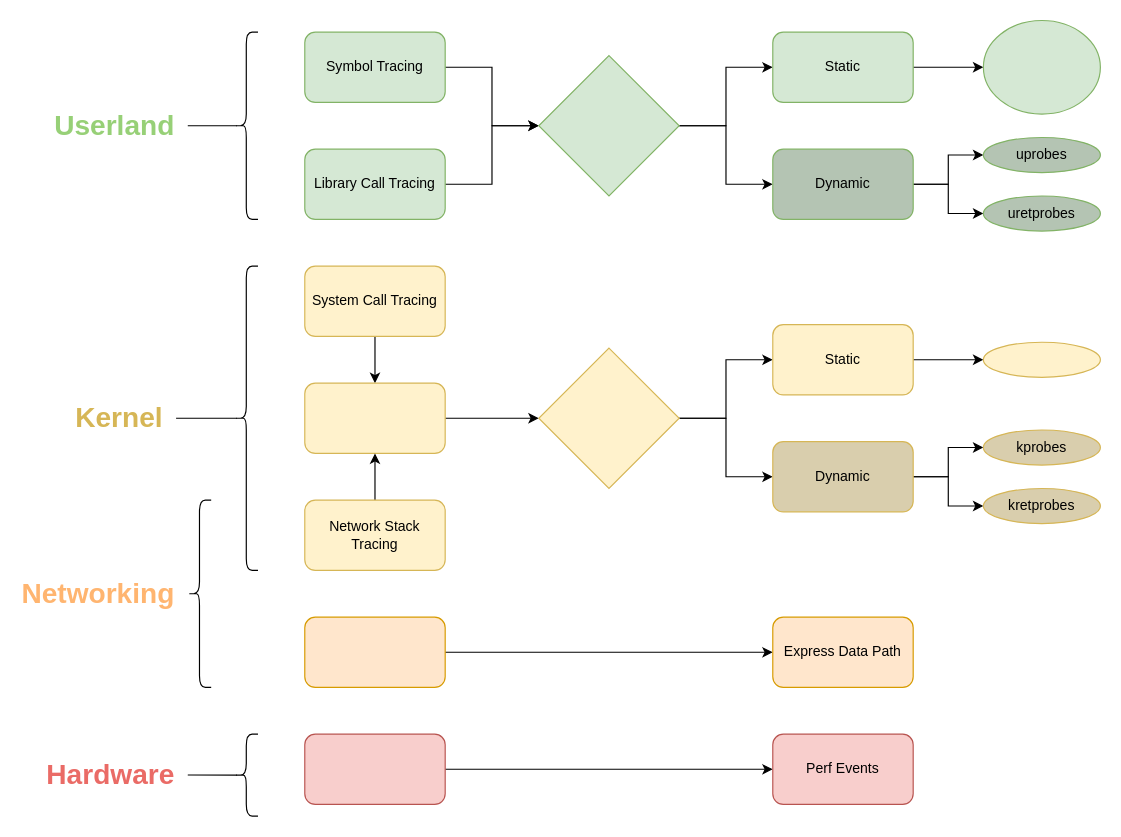
This 1121x837 diagram has some shape labels left out. The shapes that lost their labels are listed below. From the top down, each one's centre as x and y in pixels, then its label:
At point (1041, 66): "User Statically Defined Tracepoints".
At point (608, 125): "Userland Tracing".
At point (1041, 359): "Tracepoints".
At point (374, 417): "Kernel Function Tracing".
At point (608, 417): "Kernel Tracing".
At point (374, 651): "Packet Redirection and Direct Manipulation".
At point (374, 768): "Hardware-Level Performance Monitoring".
